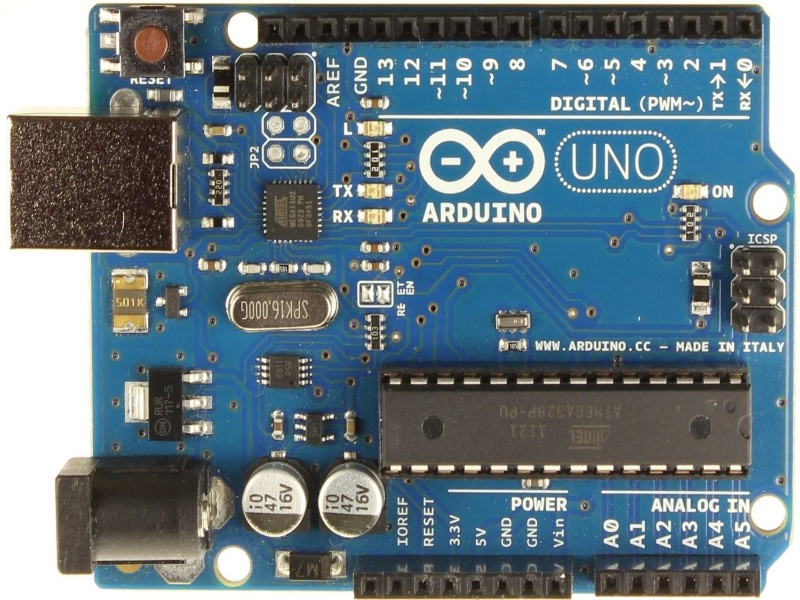uno: (28, 9, 787, 595)
